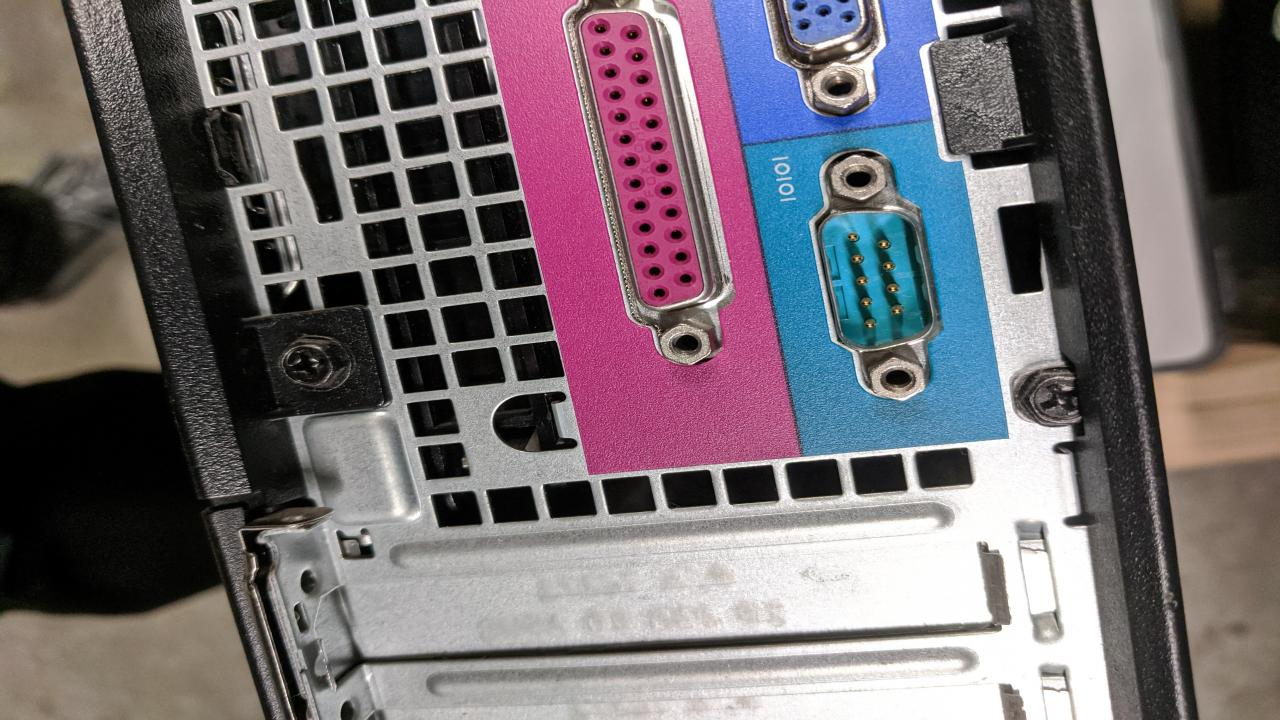CRS: (1019, 364, 1096, 433), (276, 336, 354, 391)
